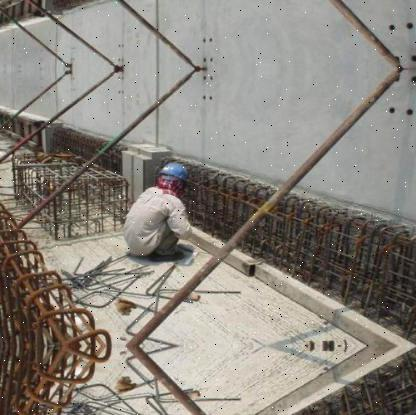helmet: (156, 159, 193, 193)
